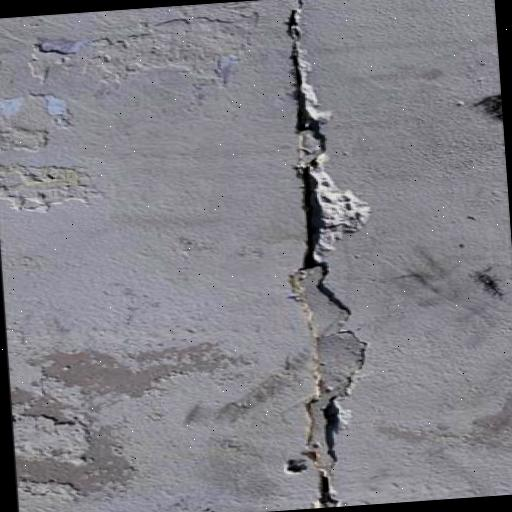spalling: (275, 6, 376, 270)
